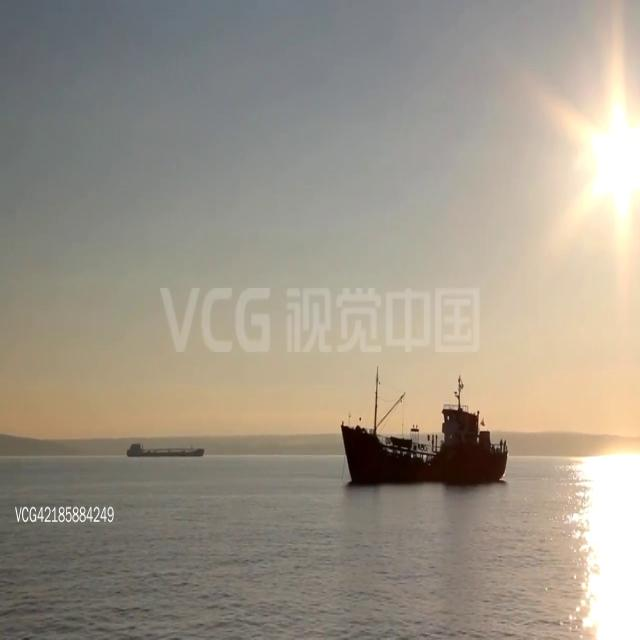fishing boat: (340, 366, 507, 485), (126, 438, 207, 461)
